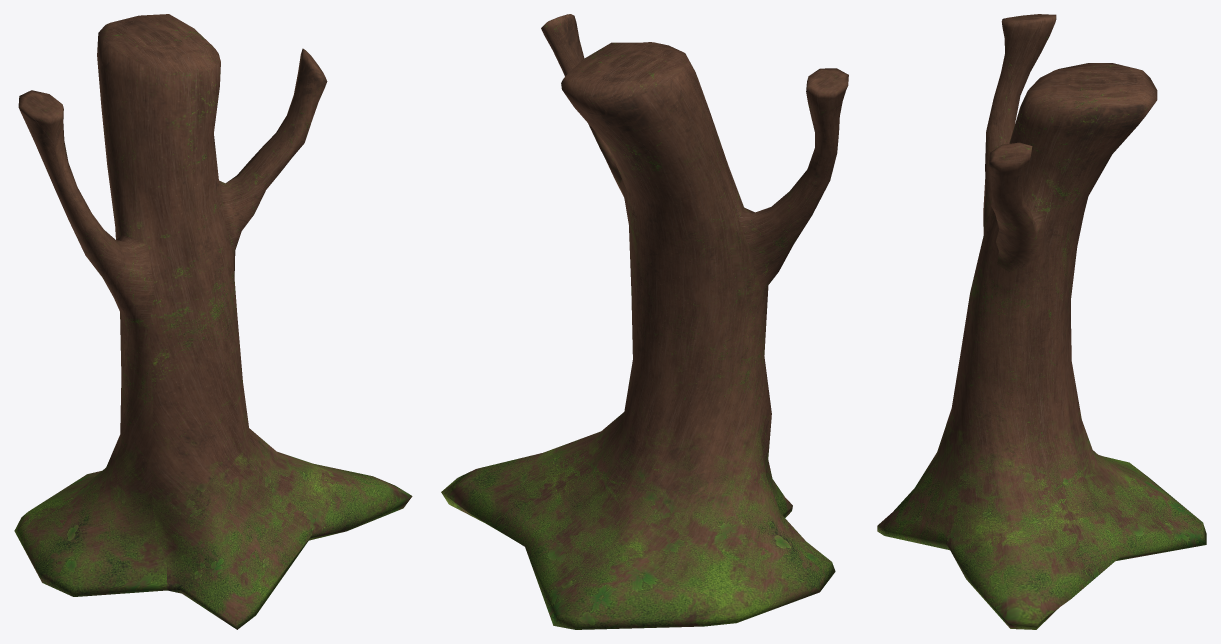
Rendered from Tree 1.fbx.
3 renders of one model, left to right at view 1: azimuth 30°, elevation 25°; view 2: azimuth 150°, elevation 25°; view 3: azimuth 270°, elevation 25°, orthographic. The views are drawn at different scales.
Parts seen in each view (by area): view 1: Tree1_Low; view 2: Tree1_Low; view 3: Tree1_Low.
Boxes of the visible parts, bbox=[...] form: Tree1_Low: bbox=[14, 14, 412, 629]; Tree1_Low: bbox=[441, 14, 848, 629]; Tree1_Low: bbox=[877, 14, 1206, 629].
Bounding box in the file's own units: 133 × 171 × 109.
